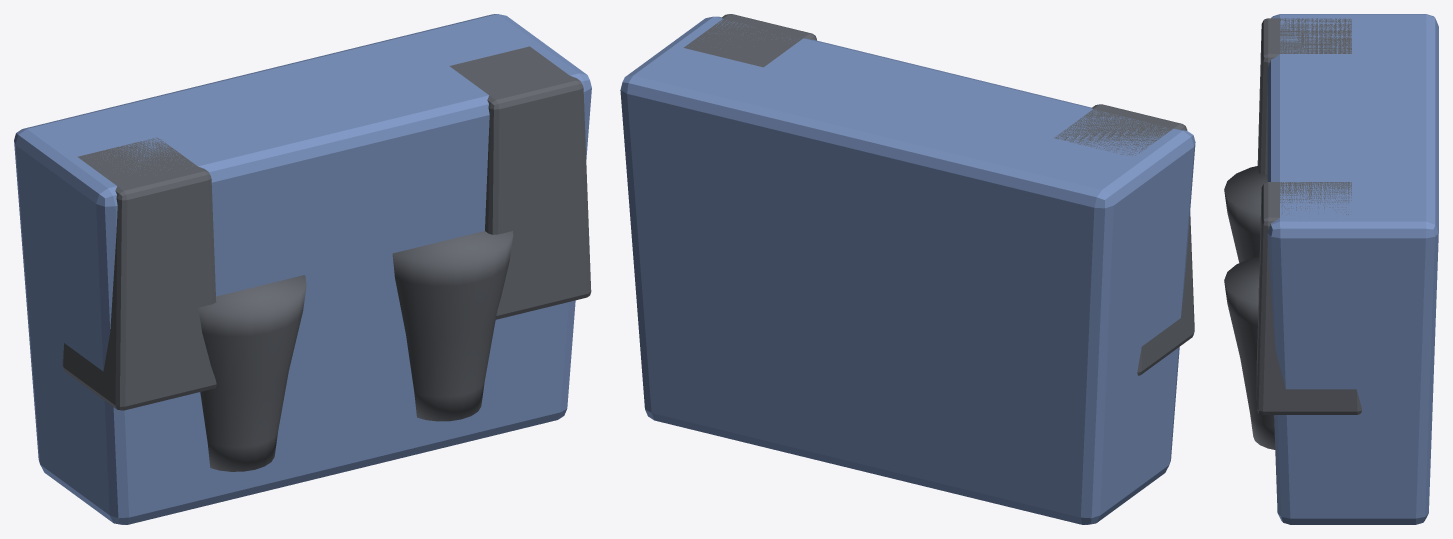
The model's file is back_heavy.glb.
3 views of the same model, side by side, from view 1: azimuth 30°, elevation 25°; view 2: azimuth 150°, elevation 25°; view 3: azimuth 270°, elevation 25° (orthographic). The views are drawn at different scales.
Visible parts, largest first — view 1: pack, ammo_box, ammo_box.001, thruster.001, thruster; view 2: pack, ammo_box, ammo_box.001; view 3: pack, ammo_box.001, ammo_box, thruster.001, thruster.
Boxes of the visible parts, left/top/right/bottom form: pack: left=14, top=14, right=591, bottom=524; ammo_box: left=62, top=137, right=216, bottom=410; ammo_box.001: left=449, top=46, right=591, bottom=319; thruster.001: left=392, top=231, right=513, bottom=421; thruster: left=198, top=275, right=306, bottom=471; pack: left=620, top=16, right=1195, bottom=524; ammo_box: left=1054, top=104, right=1194, bottom=375; ammo_box.001: left=683, top=14, right=816, bottom=67; pack: left=1267, top=14, right=1438, bottom=524; ammo_box.001: left=1256, top=182, right=1361, bottom=414; ammo_box: left=1257, top=18, right=1351, bottom=174; thruster.001: left=1224, top=256, right=1275, bottom=449; thruster: left=1224, top=166, right=1267, bottom=262.
Bounding box in the file's own units: 4.07 × 2.72 × 1.7.
